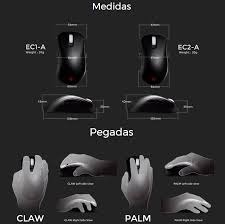mouse: (134, 31, 173, 89), (54, 31, 90, 86), (42, 92, 95, 116), (128, 95, 176, 117)
